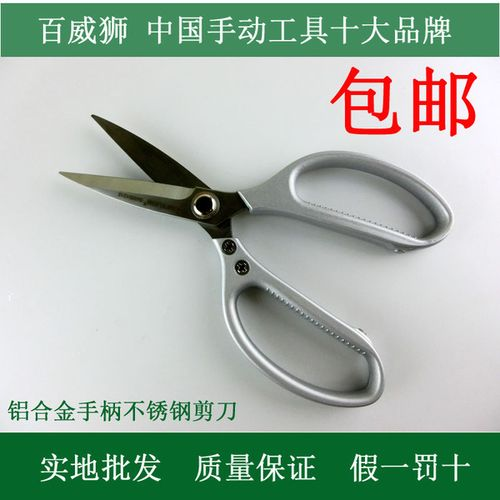scissor: (59, 114, 454, 408)
